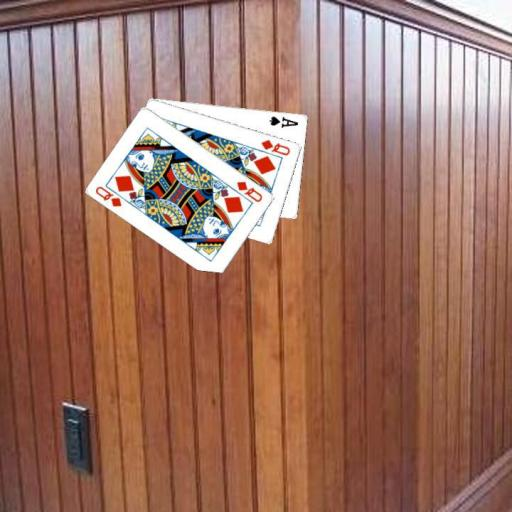AS: (267, 113, 300, 129)
QD: (92, 183, 124, 208), (234, 178, 264, 203), (258, 136, 292, 157)
